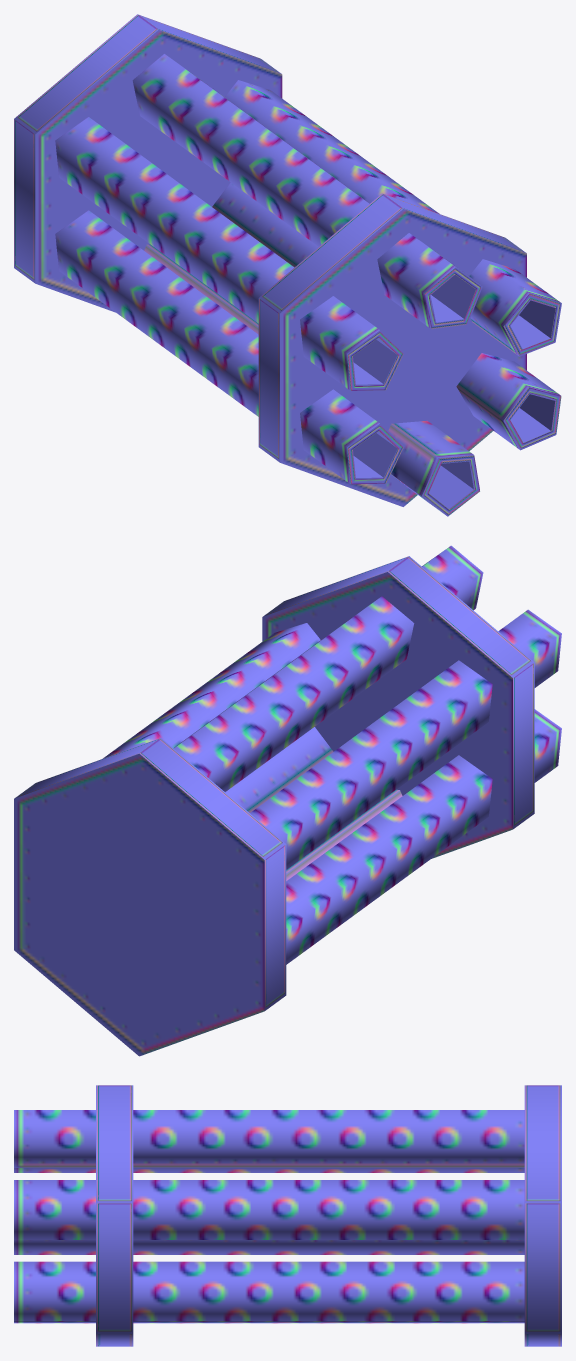
The model's file is MachineGun_Barrel.FBX.
The picture shows the model from 3 angles, top to bottom: view 1: azimuth 30°, elevation 25°; view 2: azimuth 150°, elevation 25°; view 3: azimuth 270°, elevation 25°; orthographic projection. The views are drawn at different scales.
Parts seen in each view (by area): view 1: MachineGun_Barrel; view 2: MachineGun_Barrel; view 3: MachineGun_Barrel.
Boxes of the visible parts, x1,y1,x2,y2 form: MachineGun_Barrel: [14, 14, 561, 516]; MachineGun_Barrel: [14, 545, 561, 1056]; MachineGun_Barrel: [14, 1085, 561, 1346].
Size of the model in its own units: 19.88 by 22.96 by 43.64.
